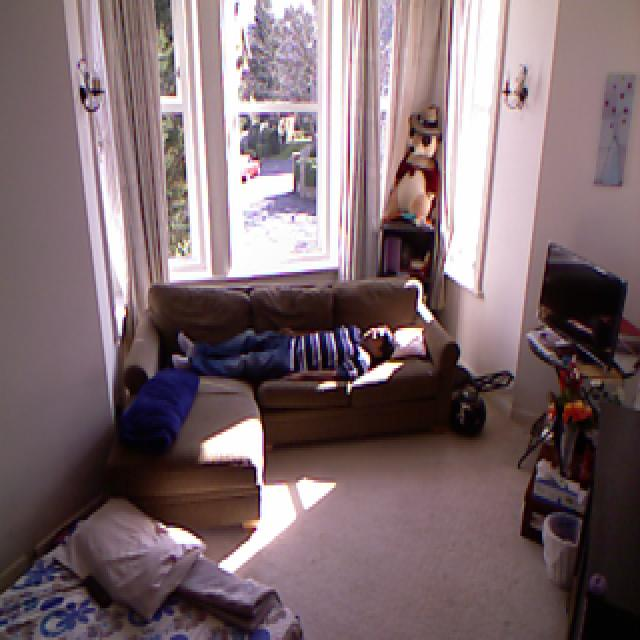lying: (167, 319, 405, 382)
